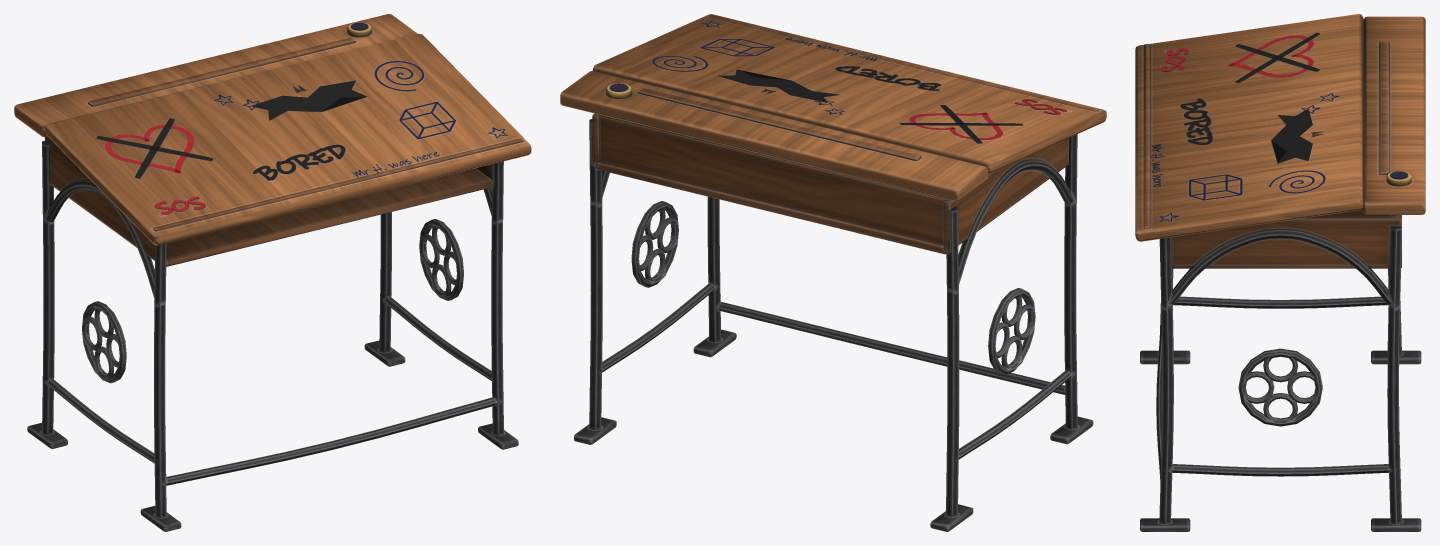
The model's file is StudentDeskGraffiti.fbx.
3 renders of one model, left to right at view 1: azimuth 30°, elevation 25°; view 2: azimuth 150°, elevation 25°; view 3: azimuth 270°, elevation 25°, orthographic. The views are drawn at different scales.
Visible parts, largest first — view 1: StudentDeskGraffiti; view 2: StudentDeskGraffiti; view 3: StudentDeskGraffiti.
Part boxes in pixels (left/top/right/bottom): StudentDeskGraffiti: left=14, top=14, right=531, bottom=531; StudentDeskGraffiti: left=560, top=14, right=1106, bottom=531; StudentDeskGraffiti: left=1135, top=14, right=1425, bottom=531.
Size of the model in its own units: 300 by 255 by 196.
